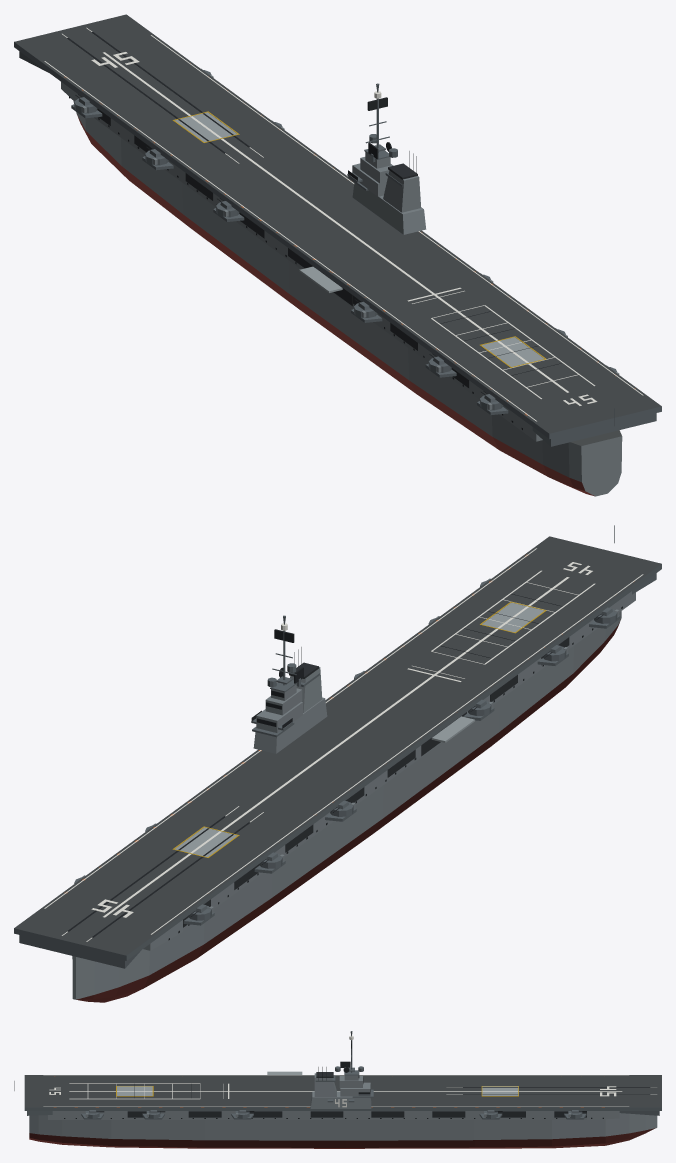
File: valleyforge.glb
3 renders of one model, top to bottom at view 1: azimuth 30°, elevation 25°; view 2: azimuth 150°, elevation 25°; view 3: azimuth 270°, elevation 25°, orthographic. The views are drawn at different scales.
Visible parts, largest first — view 1: Flight deck, Hull, Deck markings, Hangar side, Island base, Hangar openings, Funnel, Stern support, Elevator.001, Elevator, Catapult tracks; view 2: Flight deck, Hull, Deck markings, Hangar side, Island base, Hangar openings, Bow support, Elevator.001, Elevator, Catapult tracks; view 3: Flight deck, Hull, Hangar side, Deck markings, Hangar openings, Island base, Funnel, Elevator, Catapult tracks, Elevator.001, Navigation bridge, Flag bridge.
Part boxes in pixels (left/top/right/bottom): Flight deck: left=14, top=14, right=661, bottom=438; Hull: left=73, top=101, right=622, bottom=496; Deck markings: left=44, top=27, right=643, bottom=421; Hangar side: left=61, top=82, right=542, bottom=441; Island base: left=352, top=182, right=426, bottom=234; Hangar openings: left=97, top=108, right=469, bottom=388; Funnel: left=383, top=170, right=421, bottom=212; Stern support: left=532, top=413, right=656, bottom=446; Elevator.001: left=482, top=337, right=544, bottom=366; Elevator: left=174, top=112, right=237, bottom=142; Catapult tracks: left=67, top=32, right=250, bottom=153; Flight deck: left=14, top=536, right=661, bottom=960; Hull: left=72, top=611, right=621, bottom=1002; Deck markings: left=44, top=548, right=643, bottom=941; Hangar side: left=143, top=591, right=635, bottom=950; Island base: left=253, top=697, right=327, bottom=753; Hangar openings: left=183, top=637, right=569, bottom=927; Bow support: left=19, top=935, right=141, bottom=968; Elevator.001: left=482, top=602, right=544, bottom=632; Elevator: left=175, top=827, right=237, bottom=857; Catapult tracks: left=67, top=816, right=250, bottom=937; Flight deck: left=24, top=1075, right=661, bottom=1110; Hull: left=29, top=1113, right=657, bottom=1148; Hangar side: left=48, top=1111, right=619, bottom=1119; Deck markings: left=43, top=1075, right=656, bottom=1106; Hangar openings: left=127, top=1111, right=586, bottom=1117; Island base: left=310, top=1091, right=371, bottom=1108; Funnel: left=314, top=1073, right=336, bottom=1096; Elevator: left=482, top=1086, right=518, bottom=1095; Catapult tracks: left=463, top=1087, right=650, bottom=1094; Elevator.001: left=117, top=1086, right=152, bottom=1095; Navigation bridge: left=340, top=1082, right=370, bottom=1096; Flag bridge: left=339, top=1076, right=362, bottom=1087.
Size of the model in its own units: 41.1 by 59.7 by 277.
